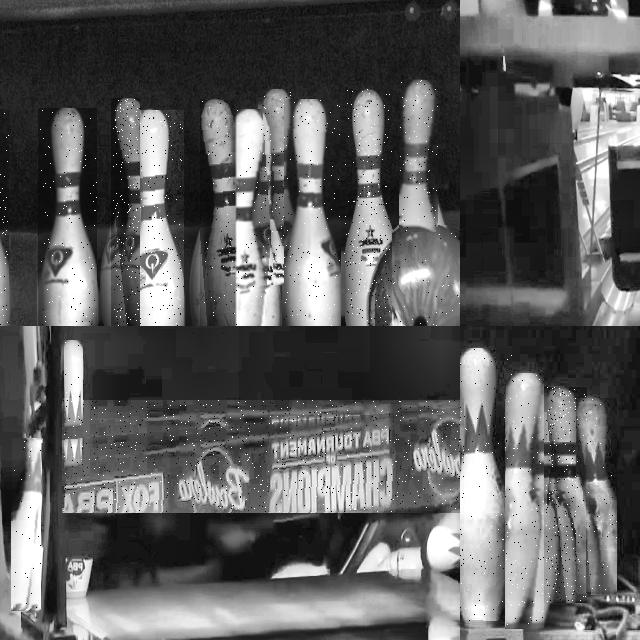bowling-ball: (366, 226, 460, 326)
bowling-pins: (460, 348, 512, 625), (284, 99, 340, 326), (126, 111, 183, 326), (40, 109, 96, 326), (344, 89, 391, 326), (506, 373, 543, 626), (222, 110, 265, 326), (546, 387, 586, 603), (576, 398, 617, 593), (200, 101, 234, 326), (261, 89, 295, 285), (113, 98, 139, 326), (400, 80, 437, 232), (14, 439, 40, 608), (63, 340, 83, 422)
sweep board: (63, 411, 460, 512)
